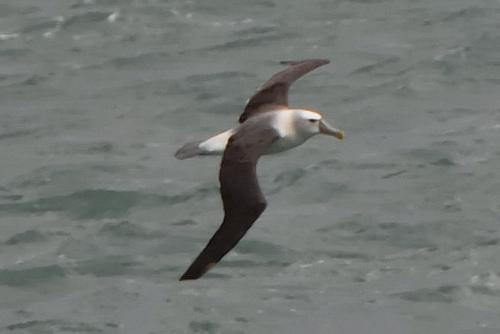003.Sooty_Albatross: (172, 60, 347, 283)
